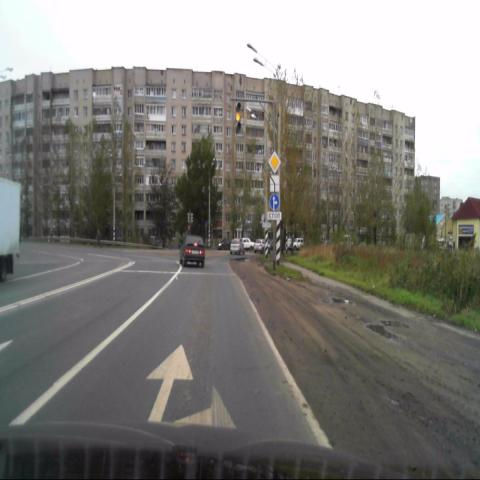2_1: (268, 151, 280, 172)
4_1_4: (269, 193, 279, 210)
